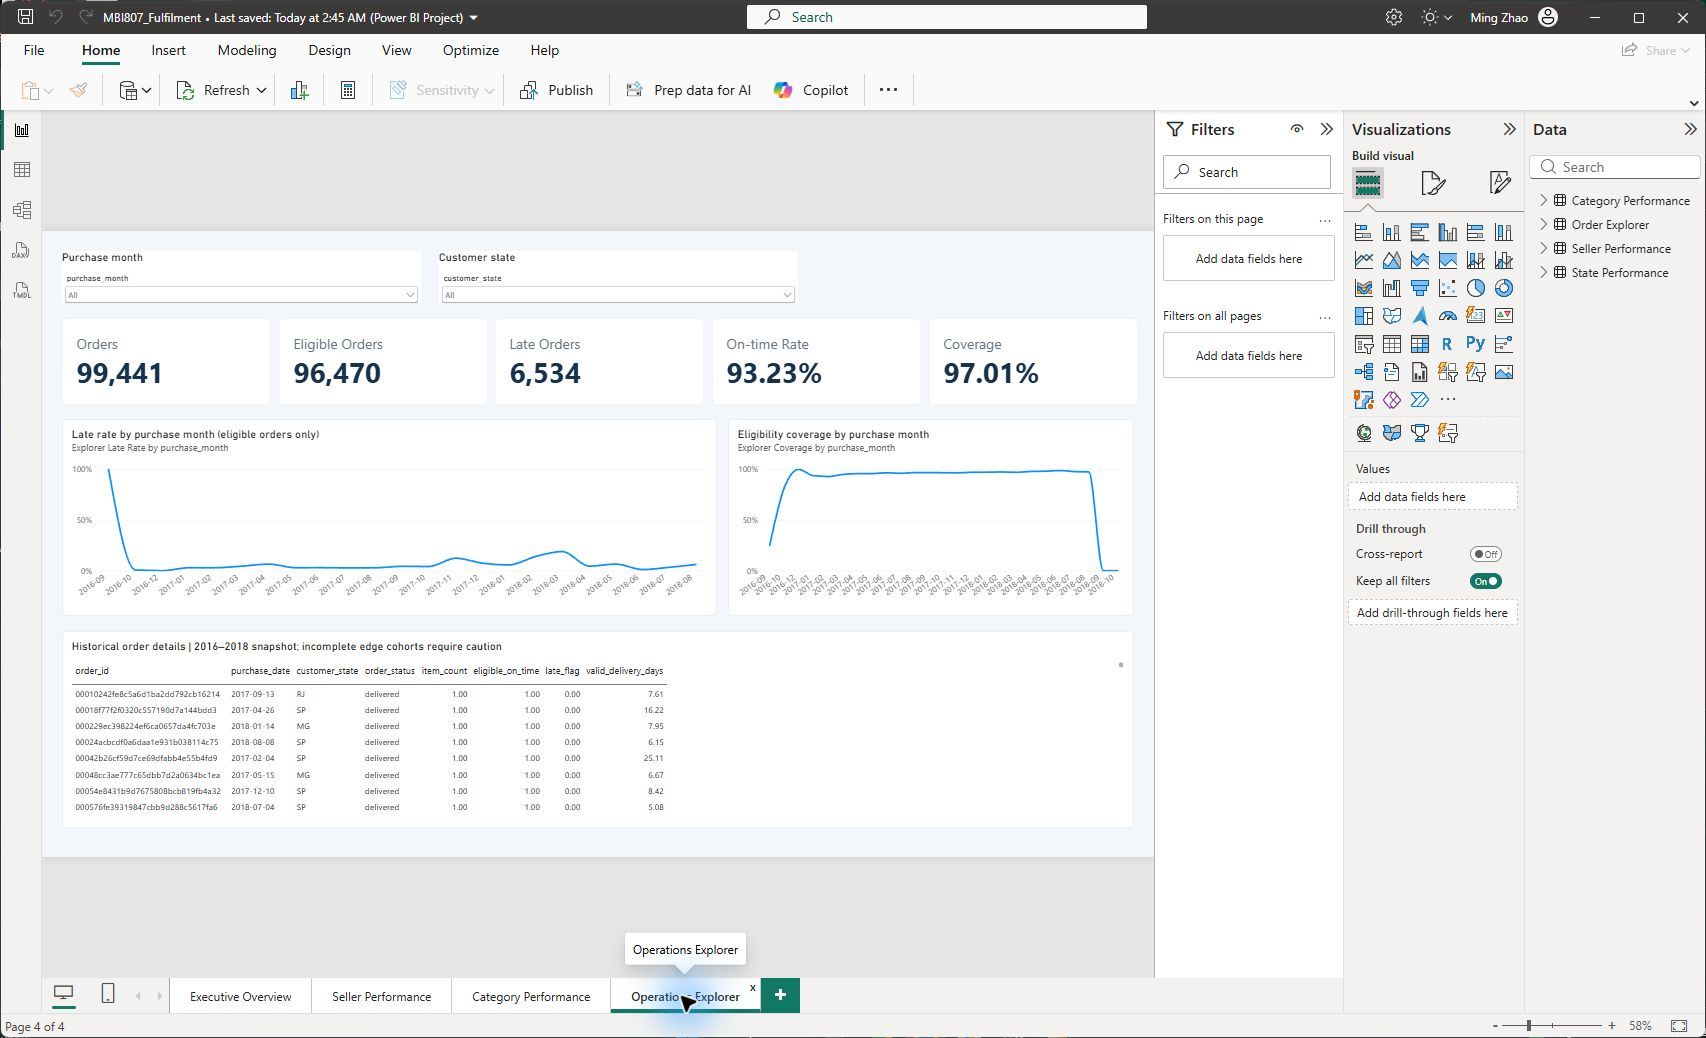

What the dashboard file says about the page in this screenshot:
{"tool":"powerbi","page":{"name":"Operations Explorer","canvas":[1920,1080],"ordinal":3},"visuals":[{"type":"slicer","title":"Purchase month","fields":{"Values":["Order Explorer.purchase_month"]},"box":[35,35,620,90],"z":0},{"type":"slicer","title":"Customer state","fields":{"Values":["Order Explorer.customer_state"]},"box":[685,35,620,90],"z":0},{"type":"cardVisual","fields":{"Data":["Order Explorer.Explorer Orders"]},"box":[35,150,360,150],"z":0},{"type":"cardVisual","fields":{"Data":["Order Explorer.Explorer Eligible Orders"]},"box":[409,150,360,150],"z":0},{"type":"cardVisual","fields":{"Data":["Order Explorer.Explorer Late Orders"]},"box":[783,150,360,150],"z":0},{"type":"cardVisual","fields":{"Data":["Order Explorer.Explorer On-time Rate"]},"box":[1157,150,360,150],"z":0},{"type":"cardVisual","fields":{"Data":["Order Explorer.Explorer Coverage"]},"box":[1531,150,360,150],"z":0},{"type":"lineChart","title":"Late rate by purchase month (eligible orders only)","fields":{"Category":["Order Explorer.purchase_month"],"Y":["Order Explorer.Explorer Late Rate"]},"box":[35,325,1130,340],"z":0},{"type":"lineChart","title":"Eligibility coverage by purchase month","fields":{"Category":["Order Explorer.purchase_month"],"Y":["Order Explorer.Explorer Coverage"]},"box":[1185,325,700,340],"z":0},{"type":"tableEx","title":"Historical order details | 2016–2018 snapshot; incomplete edge cohorts require caution","fields":{"Values":["Order Explorer.order_id","Order Explorer.purchase_date","Order Explorer.customer_state","Order Explorer.order_status","Order Explorer.item_count","Order Explorer.eligible_on_time","Order Explorer.late_flag","Order Explorer.valid_delivery_days"]},"box":[35,690,1850,340],"z":0}]}

Visuals, with their boxes on the page's 1920x1080 design canvas (x1, y1, x2, y2). These are canvas units, not pixel positions in the 1706x1038 screenshot, which may show the page scaled, cropped or inside an application window:
"Purchase month" slicer: 35/35/655/125
"Customer state" slicer: 685/35/1305/125
cardVisual - Order Explorer.Explorer Orders: 35/150/395/300
cardVisual - Order Explorer.Explorer Eligible Orders: 409/150/769/300
cardVisual - Order Explorer.Explorer Late Orders: 783/150/1143/300
cardVisual - Order Explorer.Explorer On-time Rate: 1157/150/1517/300
cardVisual - Order Explorer.Explorer Coverage: 1531/150/1891/300
"Late rate by purchase month (eligible orders only)" lineChart: 35/325/1165/665
"Eligibility coverage by purchase month" lineChart: 1185/325/1885/665
"Historical order details | 2016–2018 snapshot; incomplete edge cohorts require caution" tableEx: 35/690/1885/1030
